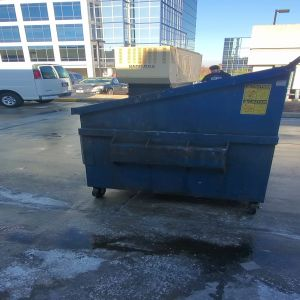Dumpster: (71, 81, 282, 217)
Person: (202, 63, 232, 81)
